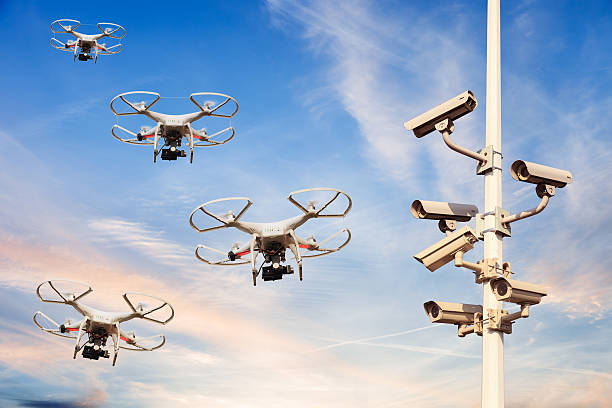Drone: (182, 184, 354, 293), (22, 276, 176, 367), (107, 89, 240, 165), (47, 17, 125, 64)
